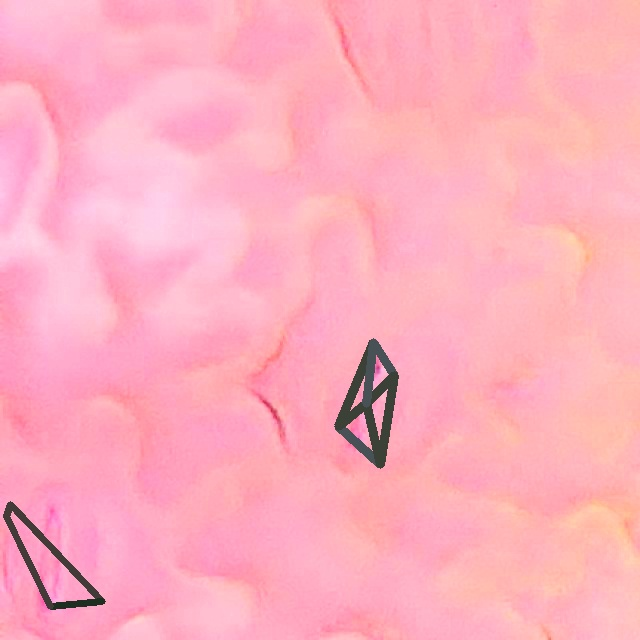open: (3, 502, 105, 609), (335, 339, 397, 467)
